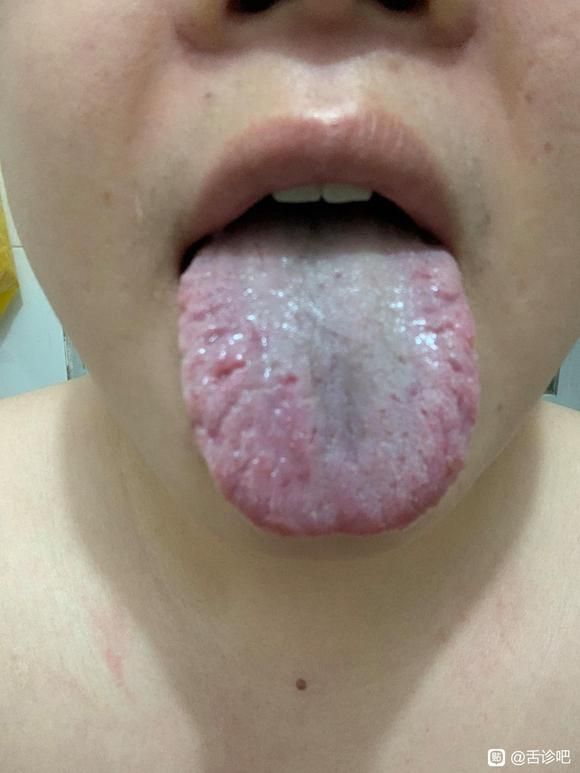baitaishe: (178, 219, 478, 535)
liewenshe: (178, 293, 302, 498), (408, 269, 477, 478)
